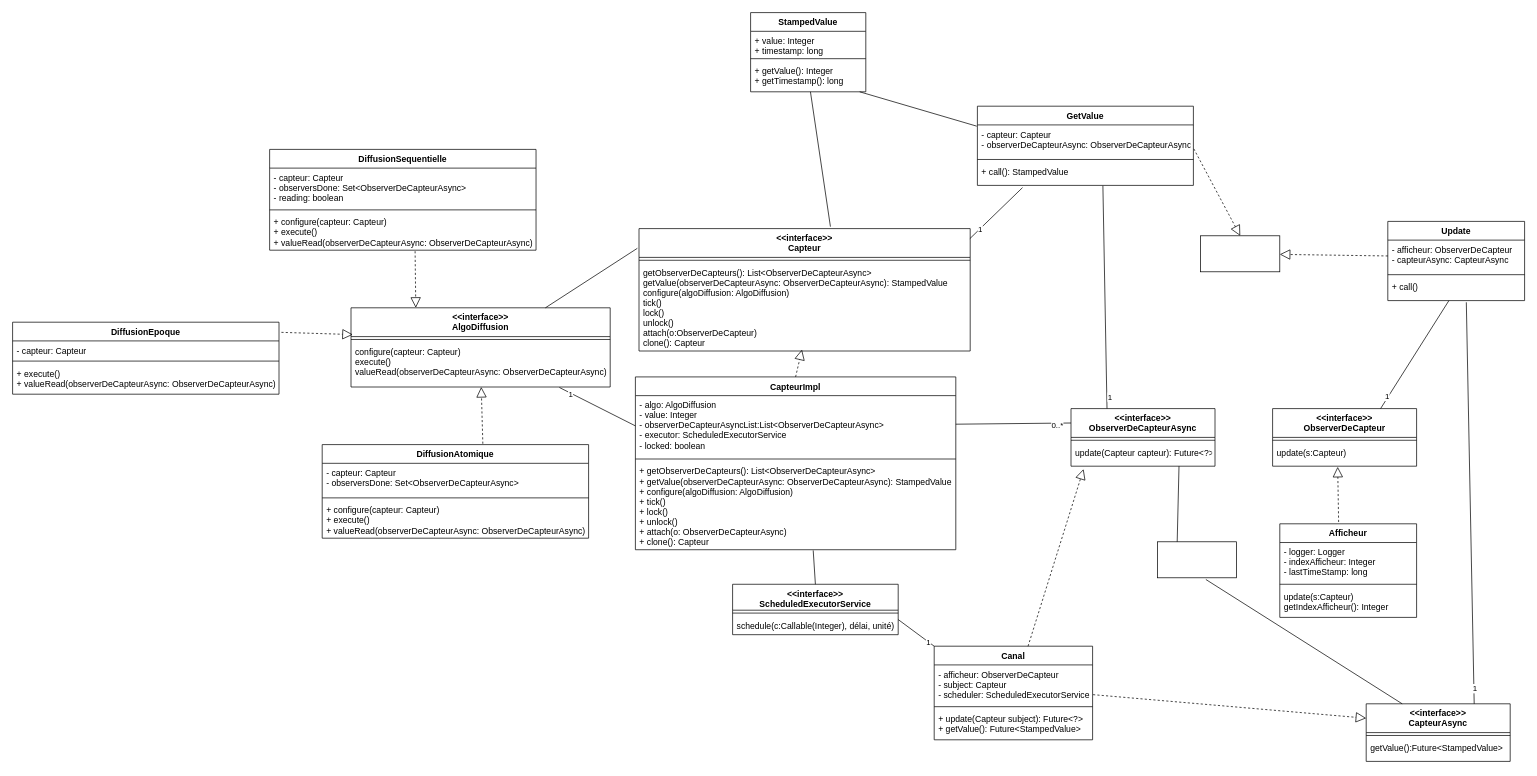
Image size: 1537x776. Some labels were removed from this diagram. Here are the shapes that lost their labels. From the top down, the centre of each, then its label:
At point (1240, 253): "«interface» Callable".
At point (1197, 559): "«interface» Future".
